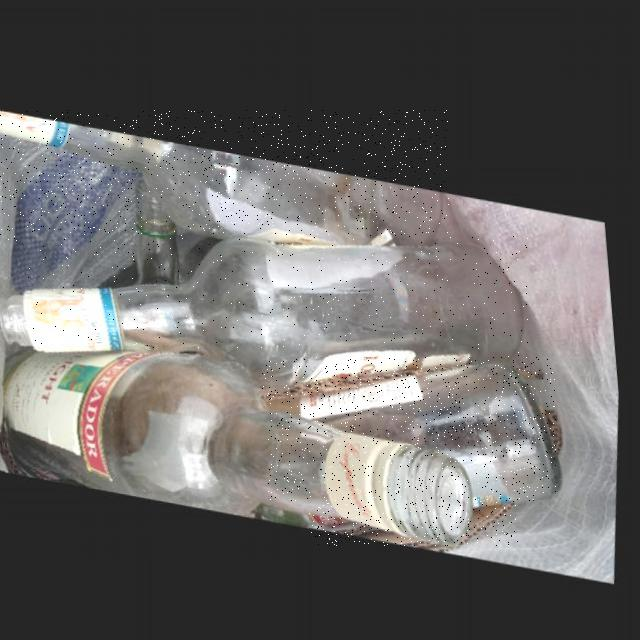glass: (6, 348, 476, 539), (28, 235, 529, 385), (0, 110, 449, 241), (269, 357, 556, 500), (143, 176, 185, 283)
paper: (309, 496, 519, 546), (262, 360, 460, 396)
